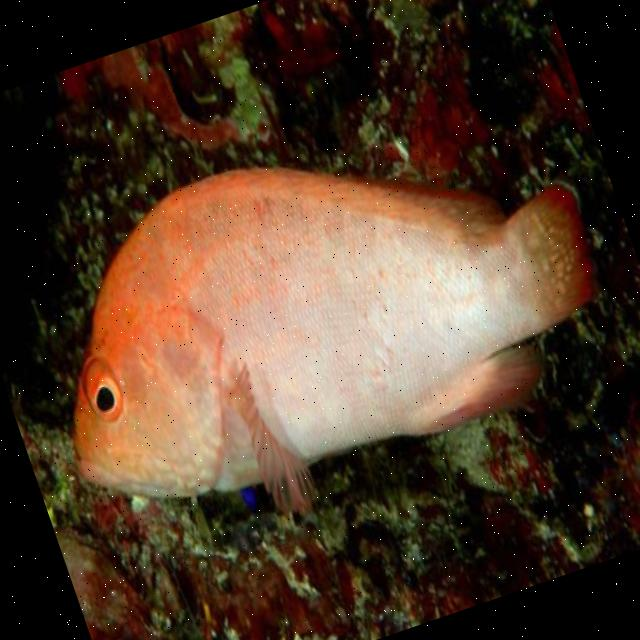ikan: (0, 59, 640, 581)
